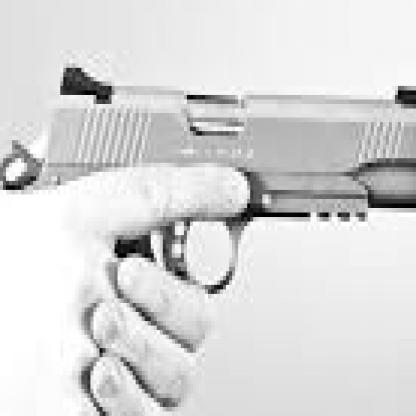gun: (0, 23, 413, 412)
